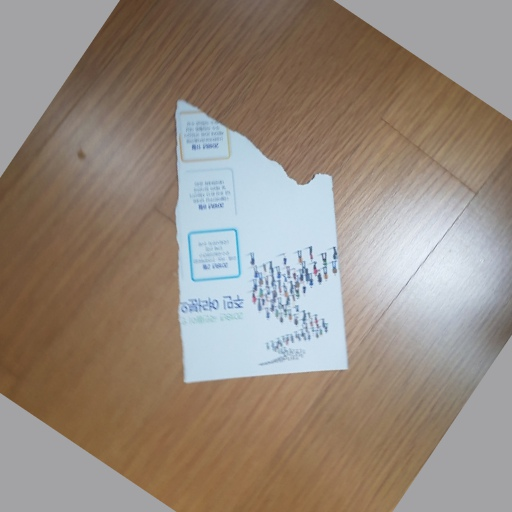Paper_2: (170, 178, 359, 398)
